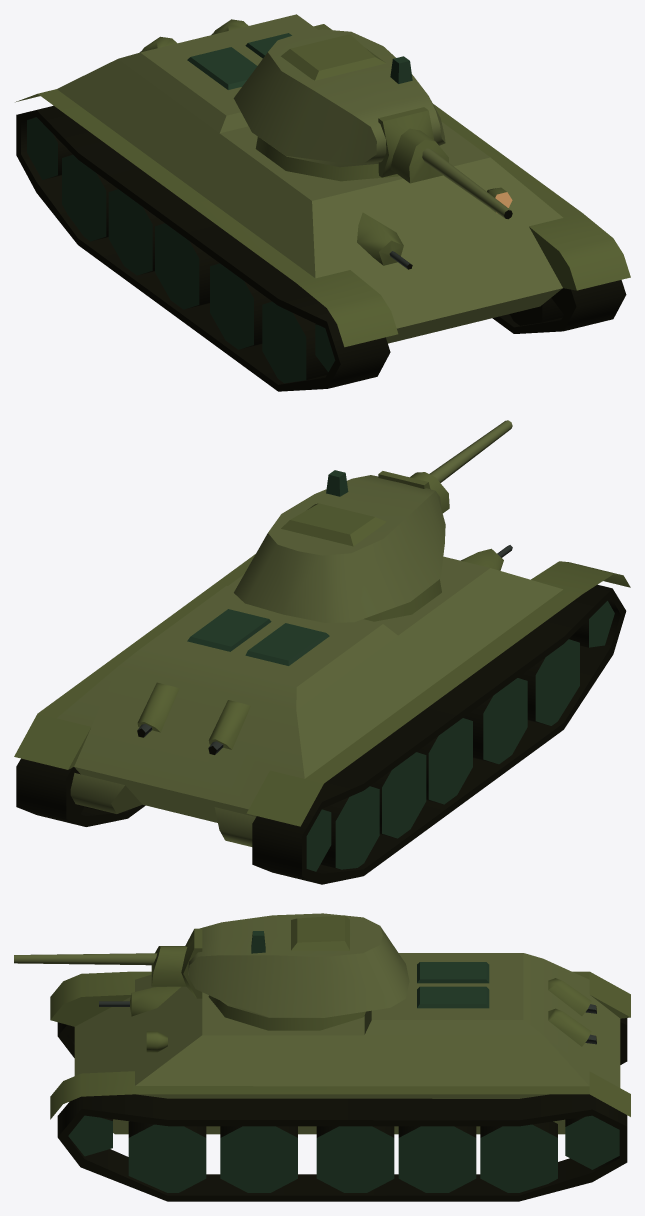
Rendered from t-34_low-poly_tank.glb.
The picture shows the model from 3 angles, top to bottom: view 1: azimuth 30°, elevation 25°; view 2: azimuth 150°, elevation 25°; view 3: azimuth 270°, elevation 25°; orthographic projection. The views are drawn at different scales.
Parts seen in each view (by area): view 1: Hull, Tracks, Turret, Gun; view 2: Hull, Tracks, Turret, Gun; view 3: Hull, Tracks, Turret, Gun.
Boxes of the visible parts, x1,y1,x2,y2 form: Hull: (15,14,630,347); Tracks: (16,105,626,391); Turret: (233,29,445,181); Gun: (378,107,512,219); Hull: (14,545,630,846); Tracks: (16,584,626,884); Turret: (234,470,445,622); Gun: (378,420,512,513); Hull: (50,953,630,1134); Tracks: (57,1018,627,1201); Turret: (188,913,409,1030); Gun: (14,928,202,998).
Size of the model in its own units: 2.34 by 1.96 by 4.96.
Materials: 1 (1 with a texture image).
